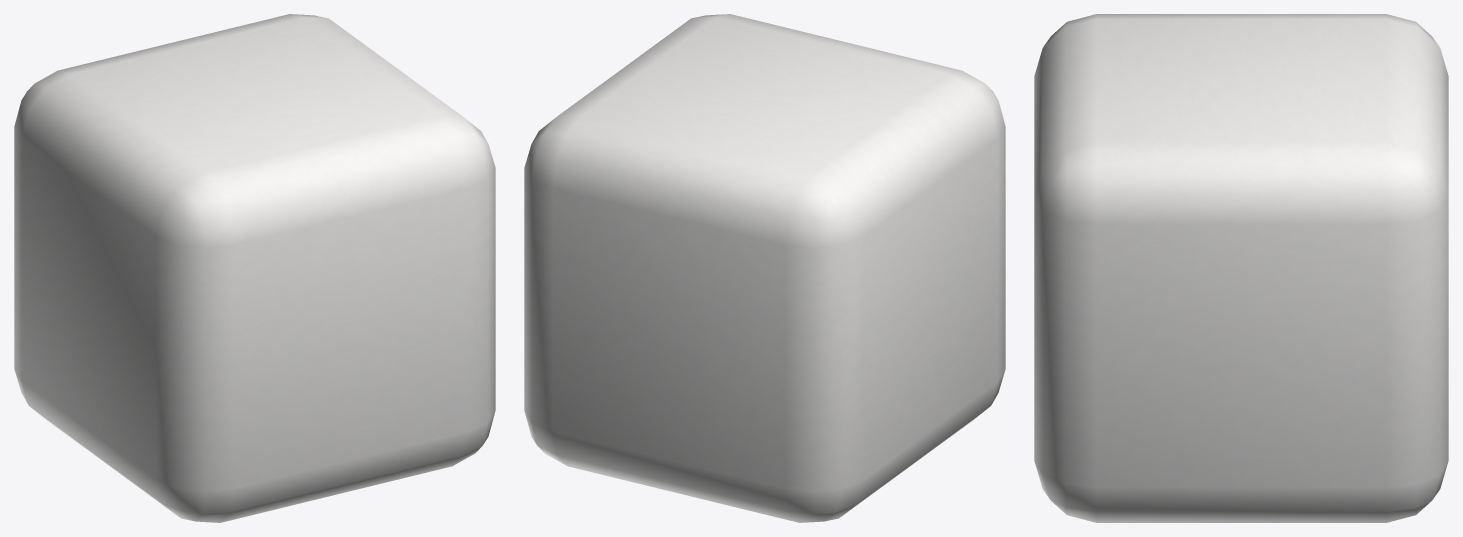
The model's file is __clay_block_02_17.obj.
3 renders of one model, left to right at view 1: azimuth 30°, elevation 25°; view 2: azimuth 150°, elevation 25°; view 3: azimuth 270°, elevation 25°, orthographic. The views are drawn at different scales.
Parts seen in each view (by area): view 1: clay_block_17; view 2: clay_block_17; view 3: clay_block_17.
Part boxes in pixels (x1,y1,x2,y2): clay_block_17: (14,14,495,522); clay_block_17: (524,14,1005,522); clay_block_17: (1034,14,1448,522).
Bounding box in the file's own units: 1 × 1 × 1.
1 material, 1 textured.
